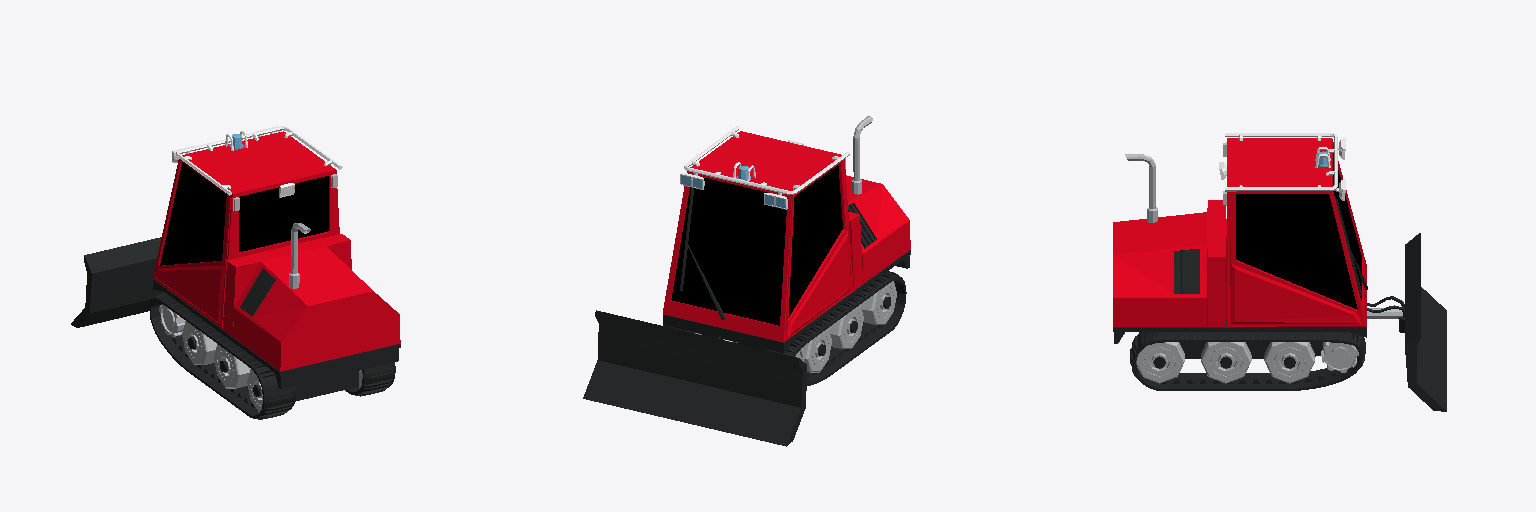
Rendered from LowPoly-Snowcat2.obj.
3 renders of one model, left to right at view 1: azimuth 30°, elevation 25°; view 2: azimuth 150°, elevation 25°; view 3: azimuth 270°, elevation 25°, orthographic.
Parts seen in each view (by area): view 1: Cabin, Windows, Tracks, Backet, Base, Cabin_pipe, Wheel_3, Wheel_3.2, Lattice, Exhaust_pipe, Wheel1; view 2: Backet, Windows, Cabin, Tracks, Base, Cabin_pipe, Wheel_3.1, Wheel_3, Wheel_3.2, Front_lights, Exhaust_pipe, Wiper; view 3: Cabin, Windows, Tracks, Backet, Base, Wheel_3, Wheel_3.2, Wheel_3.1, Cabin_pipe, Lattice, Wheel1, Exhaust_pipe.
Boxes of the visible parts, x1=… form: Cabin: x1=153, y1=131, x2=400, y2=371; Windows: x1=160, y1=162, x2=328, y2=265; Tracks: x1=150, y1=293, x2=395, y2=419; Backet: x1=71, y1=237, x2=164, y2=327; Base: x1=153, y1=279, x2=400, y2=401; Cabin_pipe: x1=176, y1=126, x2=342, y2=195; Wheel_3: x1=214, y1=344, x2=250, y2=388; Wheel_3.2: x1=182, y1=321, x2=216, y2=364; Lattice: x1=240, y1=268, x2=275, y2=316; Exhaust_pipe: x1=289, y1=223, x2=310, y2=288; Wheel1: x1=159, y1=304, x2=185, y2=336; Backet: x1=583, y1=310, x2=806, y2=446; Windows: x1=671, y1=165, x2=842, y2=325; Cabin: x1=663, y1=131, x2=910, y2=342; Tracks: x1=663, y1=271, x2=906, y2=385; Base: x1=663, y1=250, x2=910, y2=352; Cabin_pipe: x1=684, y1=126, x2=849, y2=194; Wheel_3.1: x1=860, y1=281, x2=896, y2=324; Wheel_3: x1=829, y1=305, x2=863, y2=348; Wheel_3.2: x1=701, y1=328, x2=831, y2=372; Front_lights: x1=680, y1=173, x2=787, y2=209; Exhaust_pipe: x1=852, y1=116, x2=872, y2=194; Wiper: x1=680, y1=187, x2=725, y2=319; Cabin: x1=1113, y1=138, x2=1366, y2=326; Windows: x1=1236, y1=153, x2=1361, y2=309; Tracks: x1=1130, y1=332, x2=1365, y2=390; Backet: x1=1398, y1=233, x2=1446, y2=411; Base: x1=1113, y1=308, x2=1366, y2=358; Wheel_3: x1=1201, y1=342, x2=1251, y2=383; Wheel_3.2: x1=1264, y1=342, x2=1314, y2=383; Wheel_3.1: x1=1136, y1=342, x2=1184, y2=383; Cabin_pipe: x1=1225, y1=133, x2=1337, y2=191; Lattice: x1=1174, y1=249, x2=1199, y2=293; Wheel1: x1=1321, y1=342, x2=1358, y2=372; Exhaust_pipe: x1=1125, y1=154, x2=1157, y2=222.
Bounding box in the file's own units: 12.61 × 12.54 × 17.85.